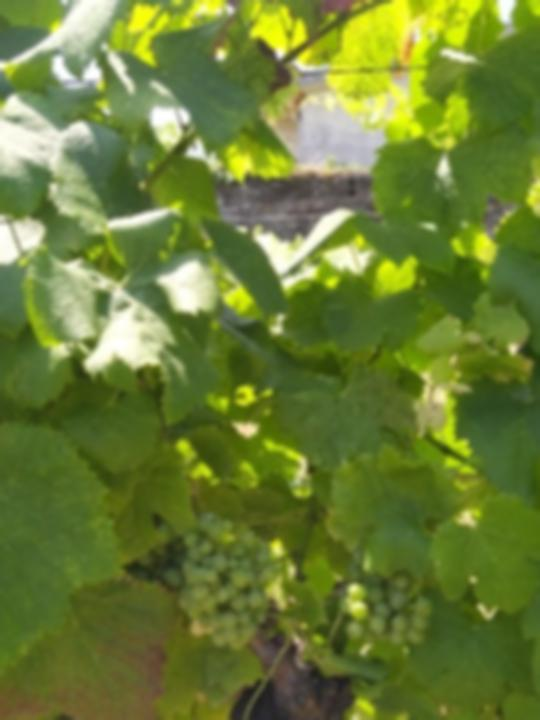grape: (133, 506, 286, 655), (332, 562, 438, 655)
